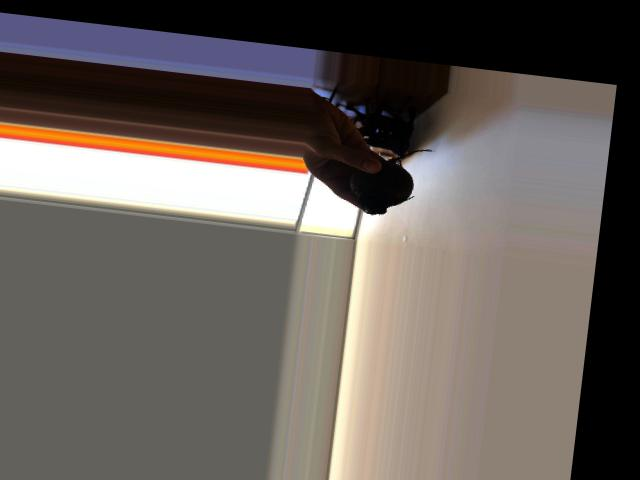beet: (346, 141, 435, 220)
